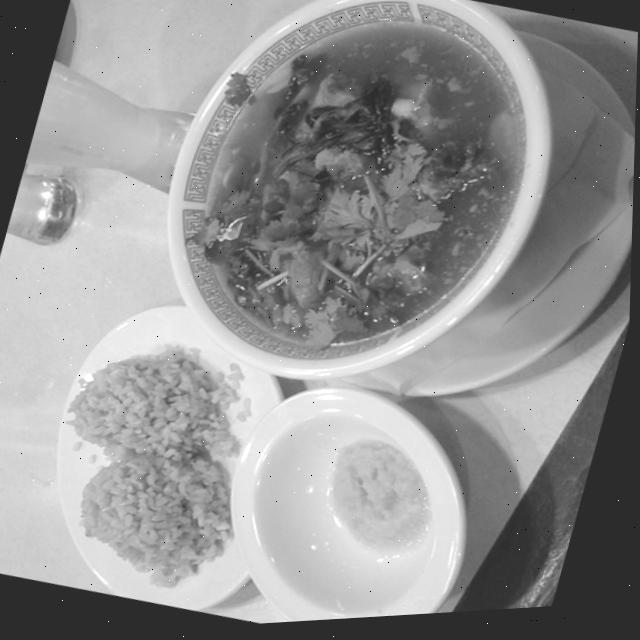汤锅炖物: (100, 0, 595, 430)
